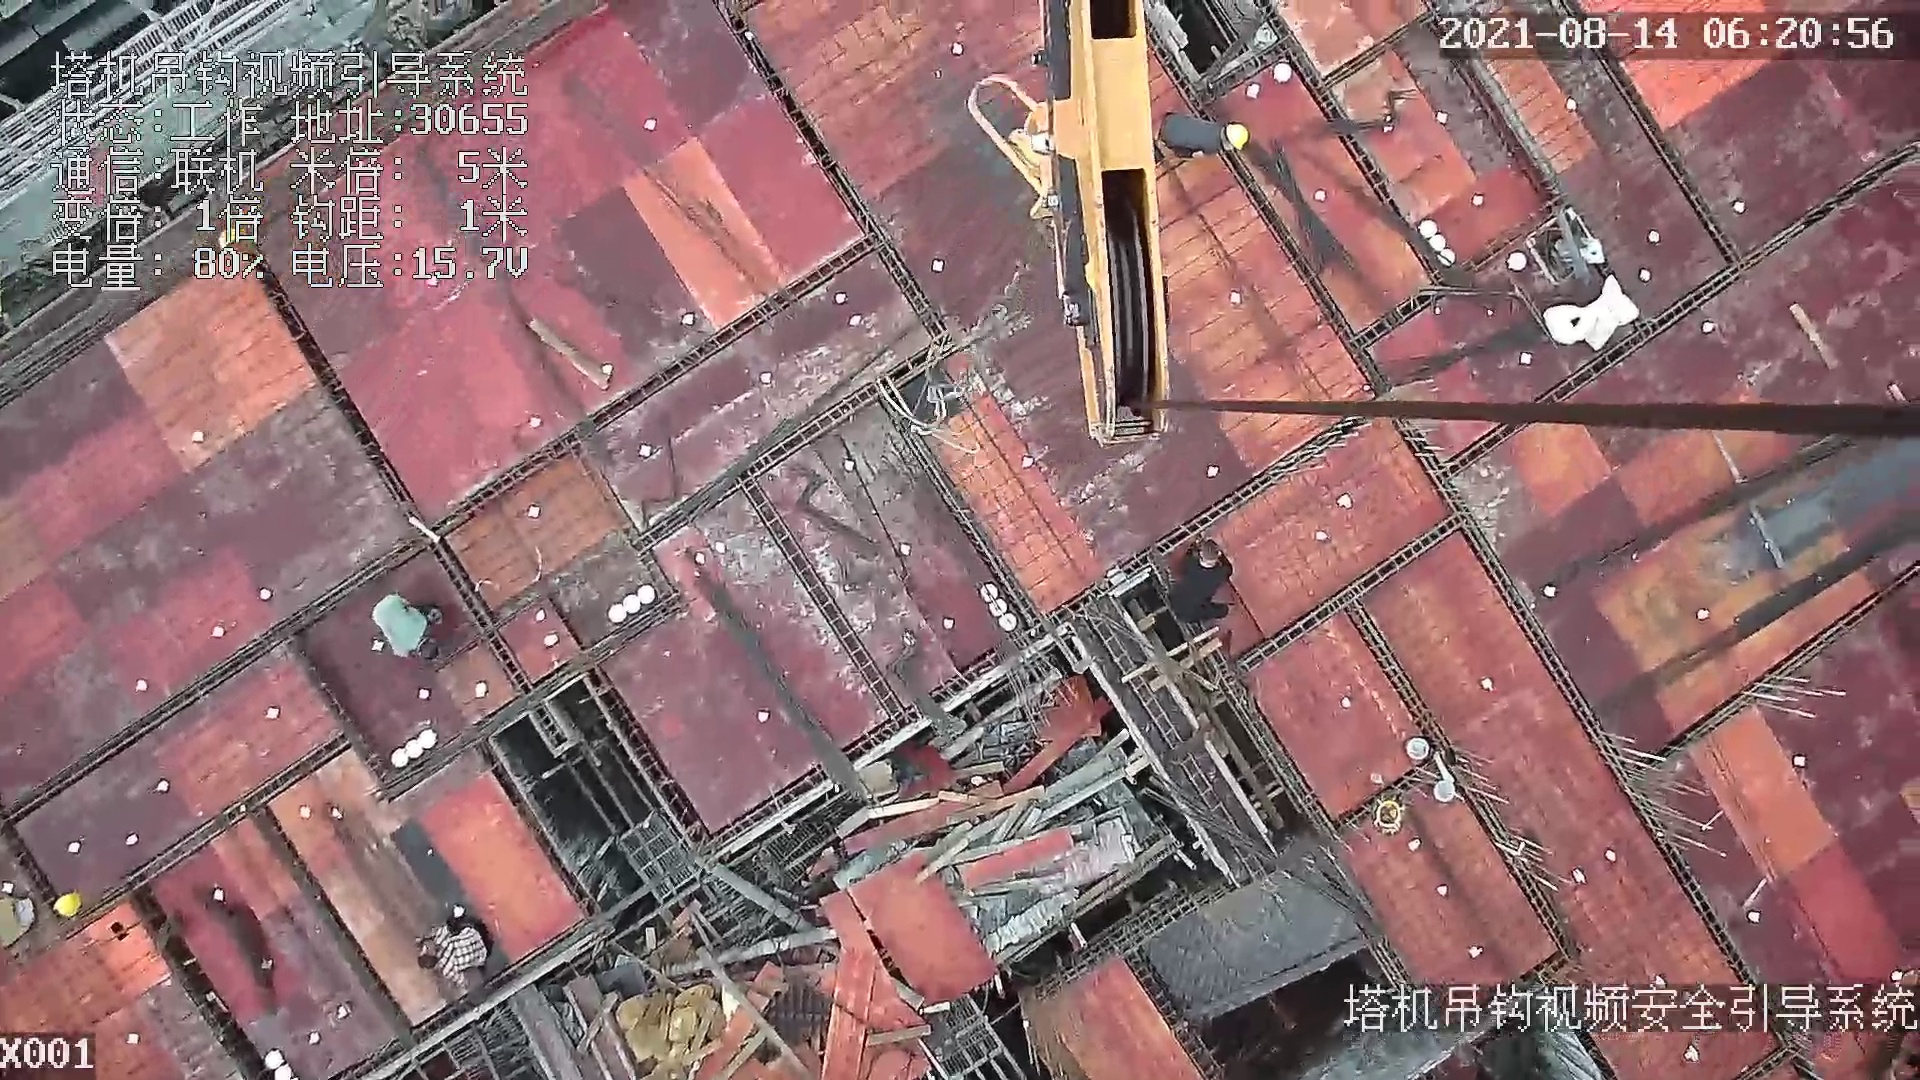helmet: (1224, 116, 1250, 156), (51, 891, 82, 921)
hook: (964, 3, 1185, 439)
person: (418, 909, 494, 989), (1171, 533, 1235, 627), (1160, 101, 1251, 163), (369, 592, 447, 662)
